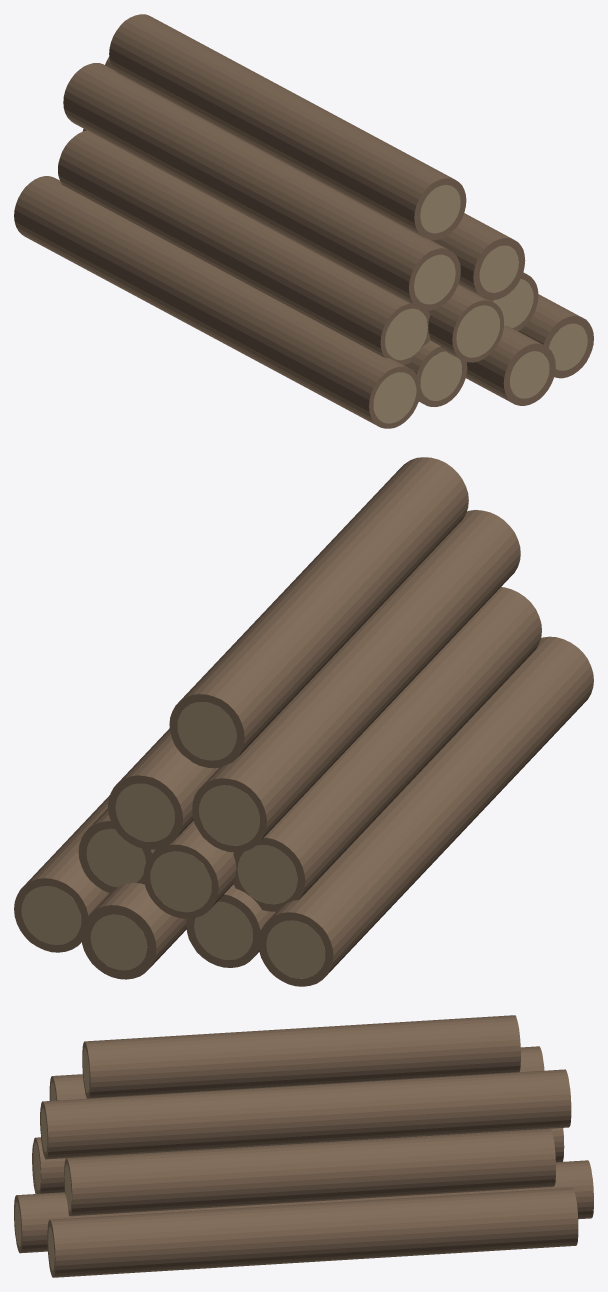
File: Logs.glb
3 renders of one model, top to bottom at view 1: azimuth 30°, elevation 25°; view 2: azimuth 150°, elevation 25°; view 3: azimuth 270°, elevation 25°, orthographic. The views are drawn at different scales.
Visible parts, largest first — view 1: Logs; view 2: Logs; view 3: Logs.
Boxes of the visible parts, x1,y1,x2,y2 form: Logs: (14, 14, 593, 428); Logs: (14, 457, 593, 986); Logs: (14, 1015, 593, 1277).
Bounding box in the file's own units: 1.66 × 1.08 × 3.07.
